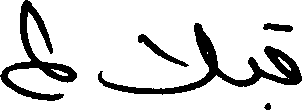ب: (247, 55, 271, 109)
ط: (0, 0, 74, 102)
ق: (263, 20, 301, 84)
لا: (98, 20, 214, 94)
